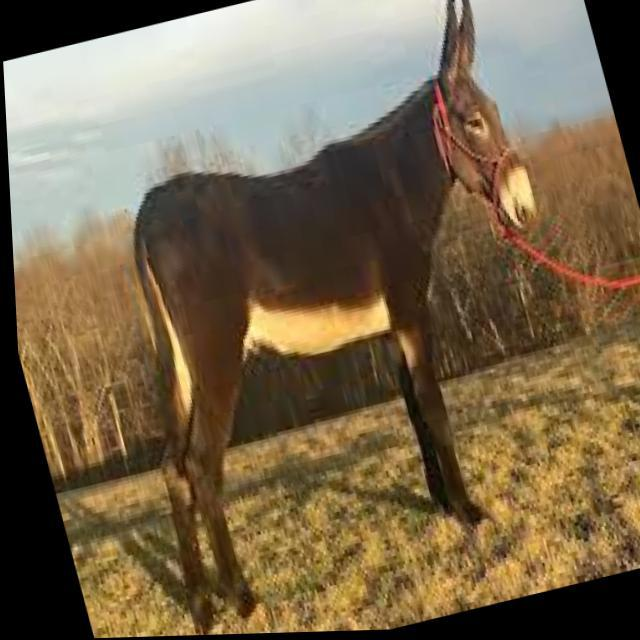Donkey: (27, 0, 640, 639), (380, 0, 547, 258)
